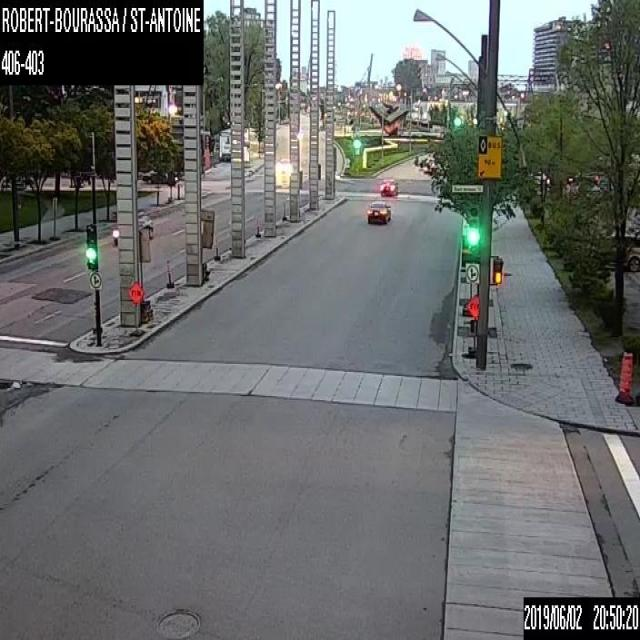construction: (137, 228, 153, 320), (199, 208, 214, 281), (616, 350, 634, 403), (465, 293, 479, 356), (128, 281, 144, 335)
vehicle: (112, 208, 152, 245), (610, 229, 639, 271), (367, 200, 390, 223), (380, 177, 398, 197), (277, 158, 289, 172)
